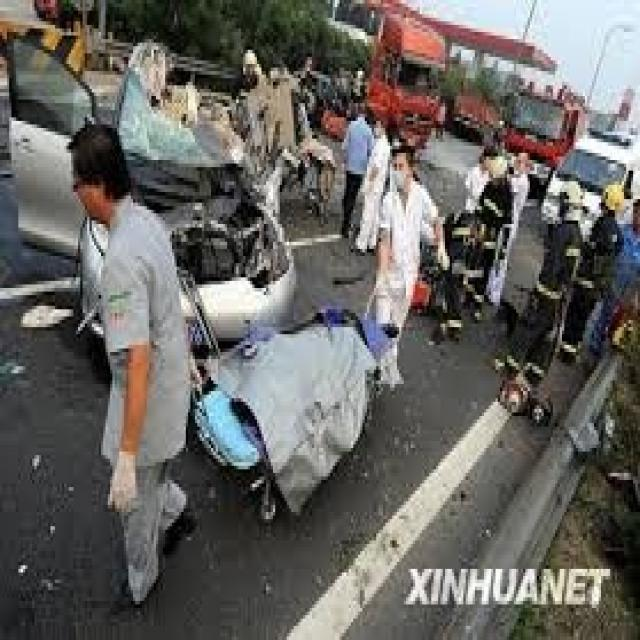accident: (83, 35, 311, 371)
